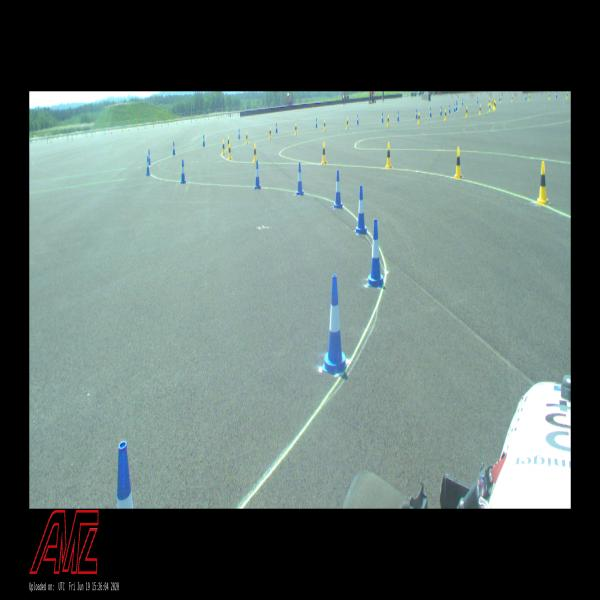blue_cone: (322, 275, 348, 375), (116, 440, 133, 508), (367, 220, 384, 286), (356, 185, 366, 234), (334, 170, 342, 208), (296, 162, 304, 196), (254, 160, 261, 188), (180, 160, 186, 183), (146, 157, 150, 176), (147, 149, 151, 165), (172, 142, 176, 155), (202, 134, 205, 146), (381, 112, 384, 123), (356, 114, 359, 125), (429, 107, 432, 117), (415, 109, 418, 119), (275, 123, 278, 133), (315, 118, 318, 128), (238, 128, 240, 139), (456, 100, 458, 111), (440, 106, 442, 116), (397, 111, 399, 121), (449, 104, 451, 114), (461, 98, 463, 105), (556, 91, 558, 98), (525, 93, 527, 99), (454, 103, 455, 112), (499, 94, 500, 101), (477, 97, 478, 103)
yellow_cone: (537, 161, 549, 204), (454, 147, 462, 179), (386, 142, 392, 168), (321, 141, 327, 164), (252, 143, 258, 162), (228, 142, 232, 160), (222, 139, 226, 154), (294, 123, 298, 134), (227, 136, 230, 150), (269, 126, 272, 139), (386, 114, 389, 127), (346, 118, 349, 129), (246, 131, 248, 145), (418, 111, 420, 124), (445, 108, 447, 120), (324, 119, 326, 131), (466, 106, 468, 117), (479, 104, 481, 114), (489, 102, 491, 112), (566, 91, 568, 99), (488, 97, 490, 105), (491, 99, 493, 106), (495, 101, 496, 110), (529, 93, 530, 101), (512, 94, 513, 102), (549, 92, 550, 100), (494, 100, 495, 108), (493, 96, 494, 104), (500, 96, 501, 103)
